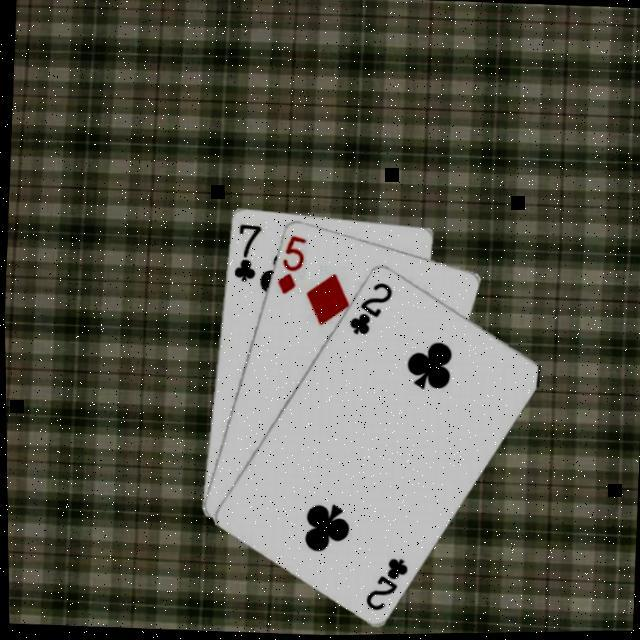2C: (346, 276, 398, 338), (362, 552, 412, 614)
5D: (274, 230, 311, 296)
7C: (230, 218, 266, 284)
